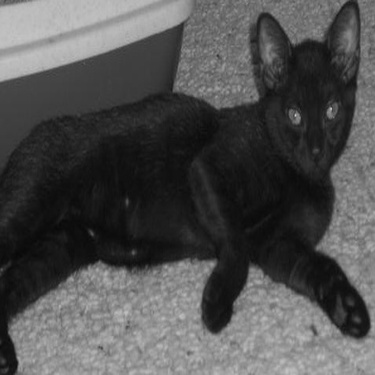cat: (1, 1, 368, 374)
